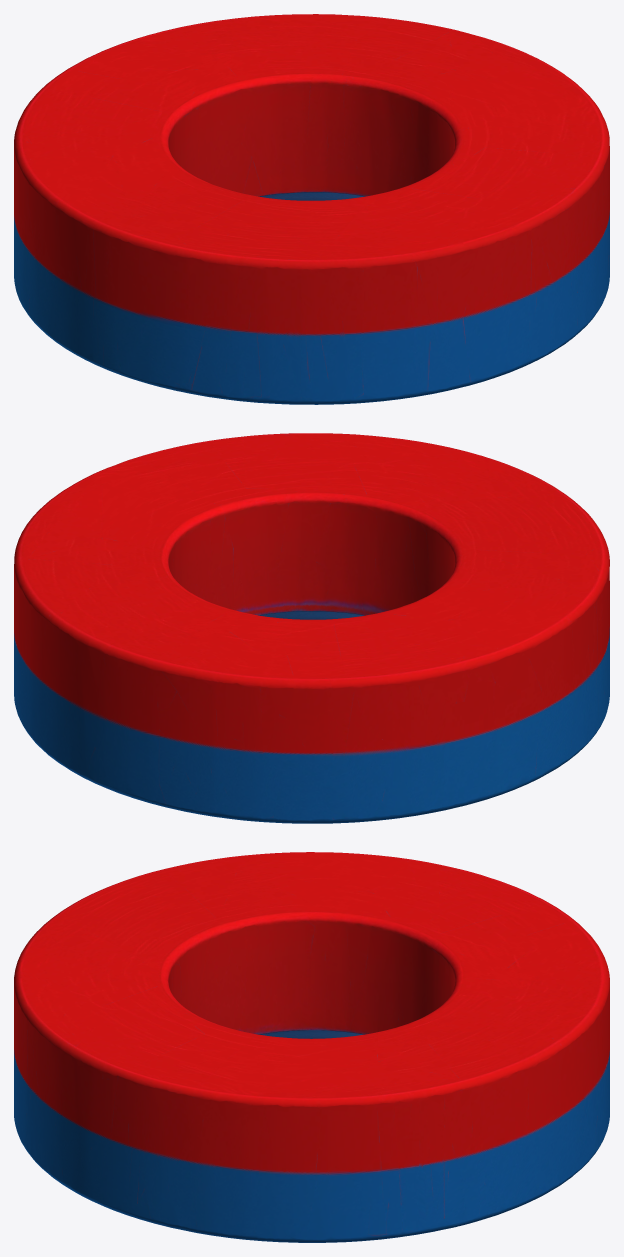
Rendered from ring-magnet.glb.
3 views of the same model, one above another, from view 1: azimuth 30°, elevation 25°; view 2: azimuth 150°, elevation 25°; view 3: azimuth 270°, elevation 25° (orthographic).
Size of the model in its own units: 0.0375 by 0.01 by 0.0375.
Materials: 1 (1 with a texture image).
